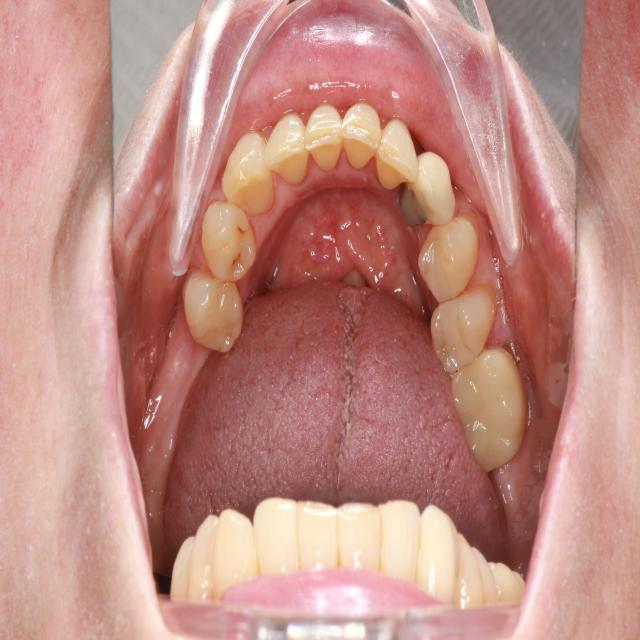tooth: (447, 332, 539, 478), (422, 280, 499, 382), (413, 208, 484, 316), (180, 261, 246, 367), (195, 190, 264, 284), (219, 124, 284, 223), (403, 139, 460, 239), (374, 107, 425, 209), (260, 104, 318, 193), (336, 89, 389, 186), (301, 87, 350, 184)
